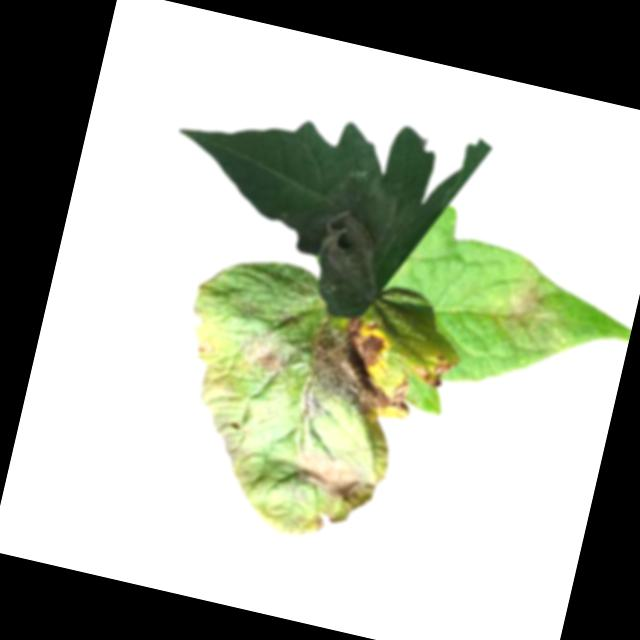Late_blight: (298, 308, 420, 443), (289, 443, 381, 512), (315, 206, 389, 284), (200, 408, 263, 466), (500, 279, 557, 342), (238, 329, 300, 380), (410, 348, 458, 389), (197, 339, 219, 357)
